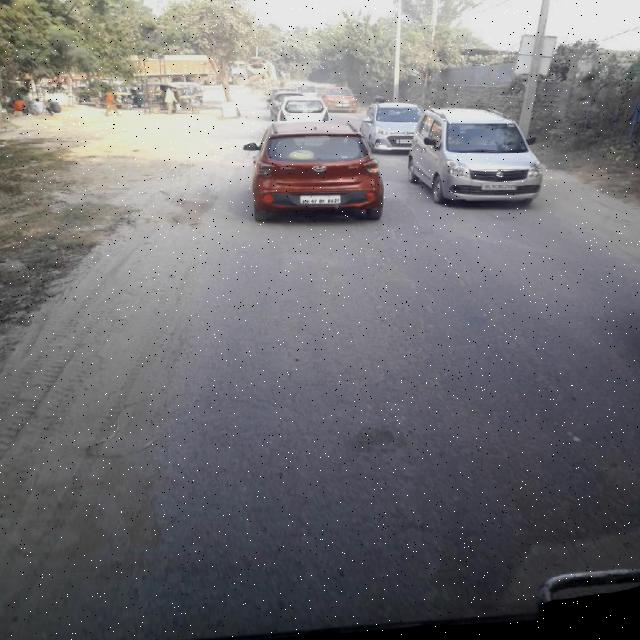D20: (198, 230, 524, 592)
